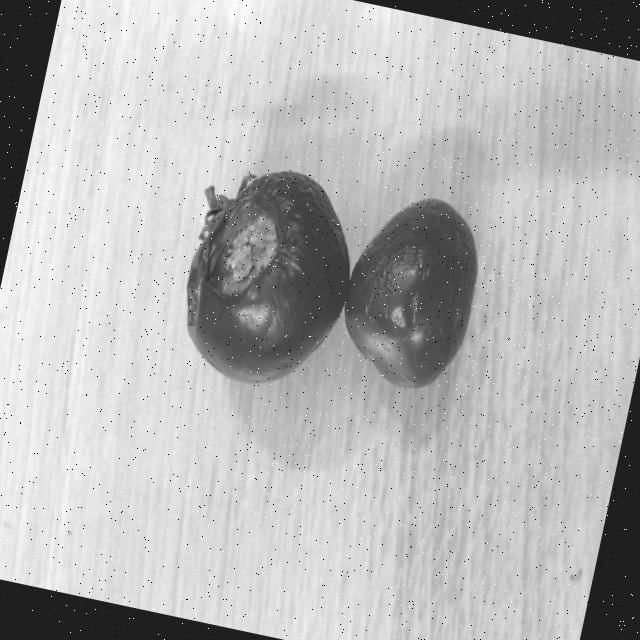Rotten: (166, 150, 371, 400)
